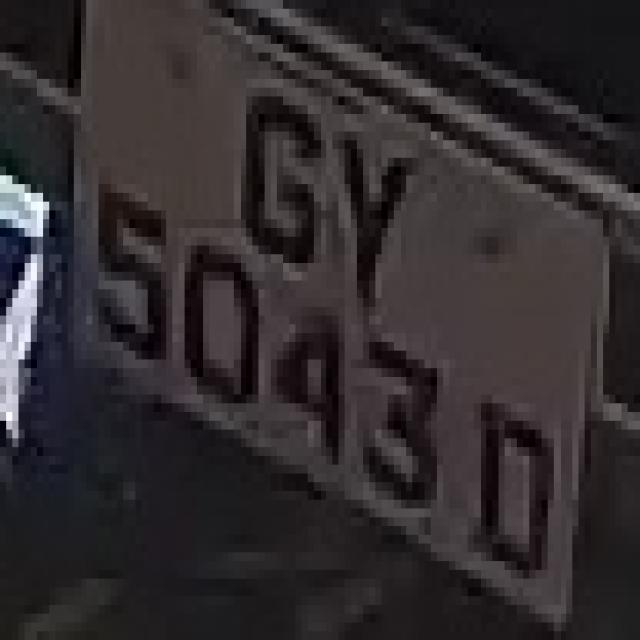0: (160, 211, 258, 438)
3: (357, 342, 437, 561)
4: (277, 263, 363, 500)
5: (92, 149, 172, 386)
D: (449, 368, 560, 588)
G: (234, 70, 326, 298)
Y: (332, 114, 412, 333)
